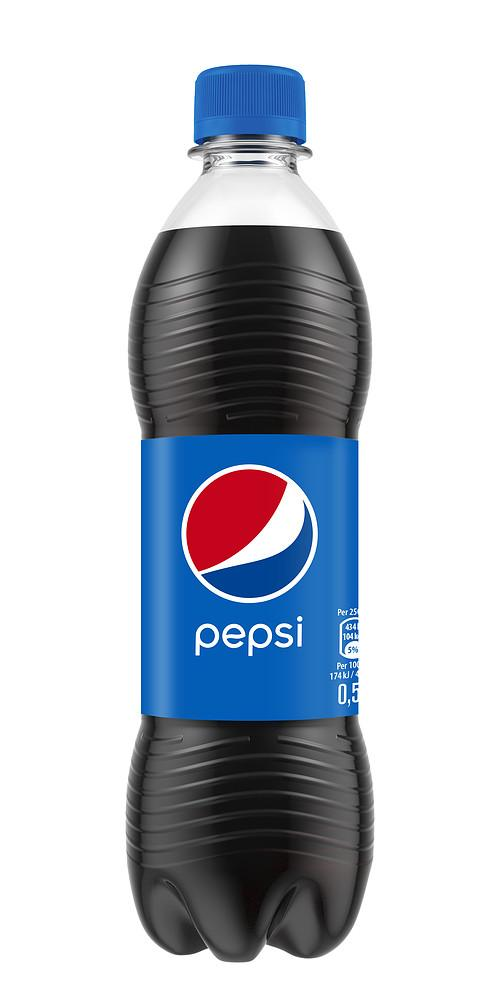pepsi: (180, 458, 322, 602), (180, 458, 320, 602), (192, 458, 320, 602)
